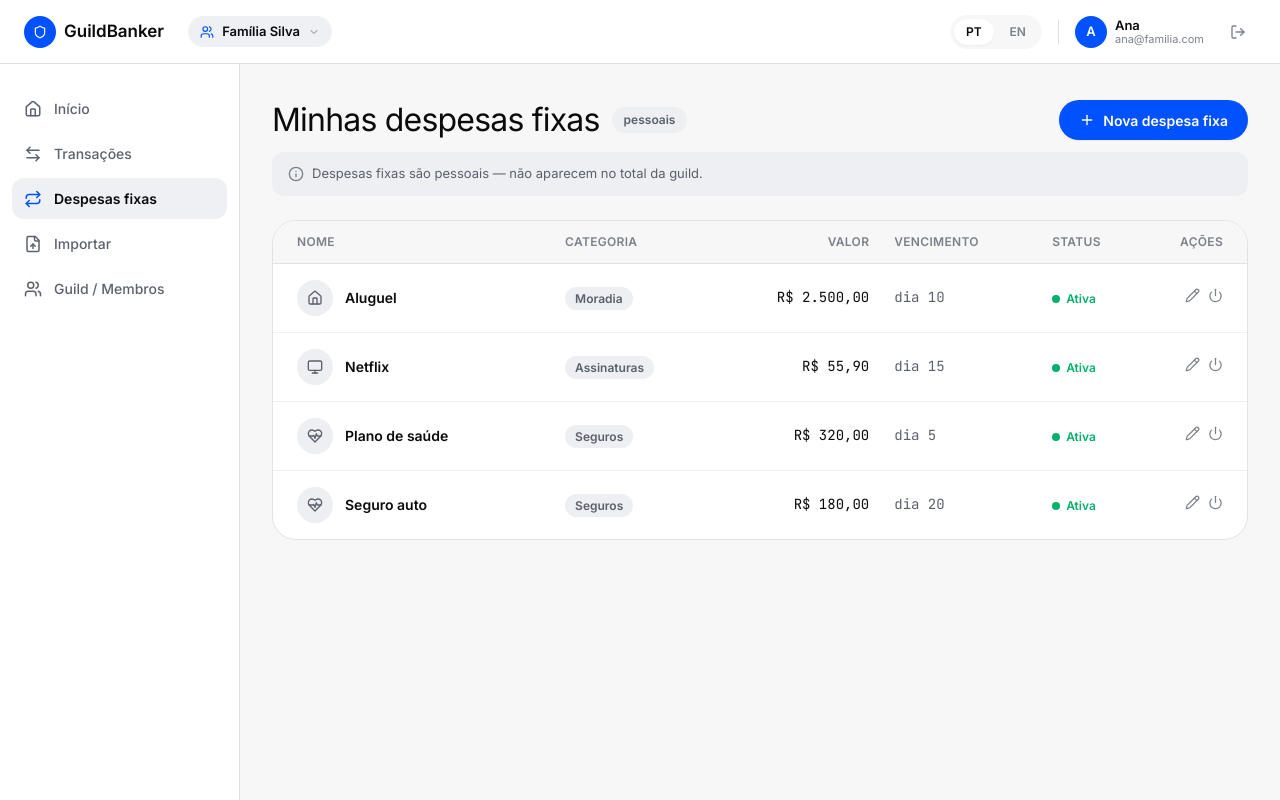
Test: reports saved changes when refetch fails and retries only GET
Expected: the row "Aluguel Moradia R$ 2.500,00 dia 10 Ativa" is shown, [273,263,1247,332]
Step 1. Click the button "Nova despesa fixa" → (1154, 120), box [1059,100,1248,140]
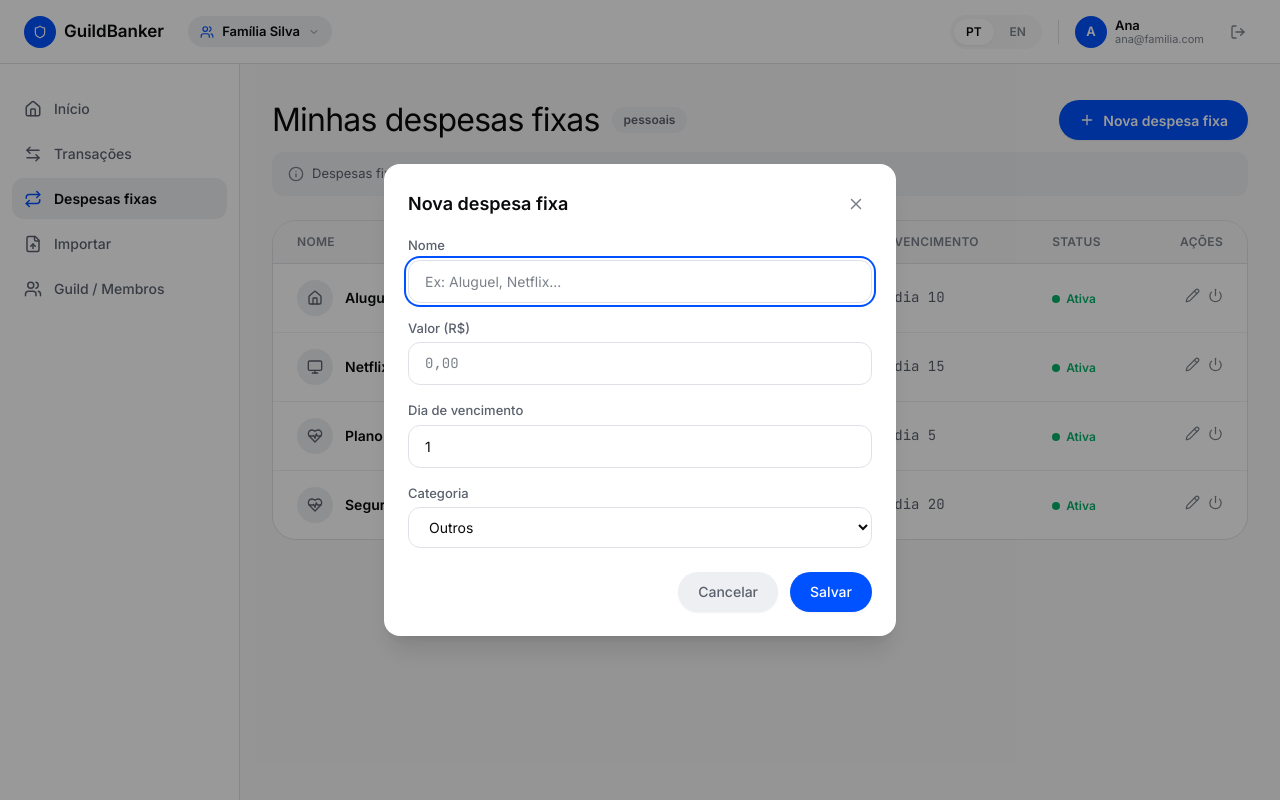
Step 2. Type "Internet" into the field labelled "Nome" → (640, 281), box [408,260,872,302]
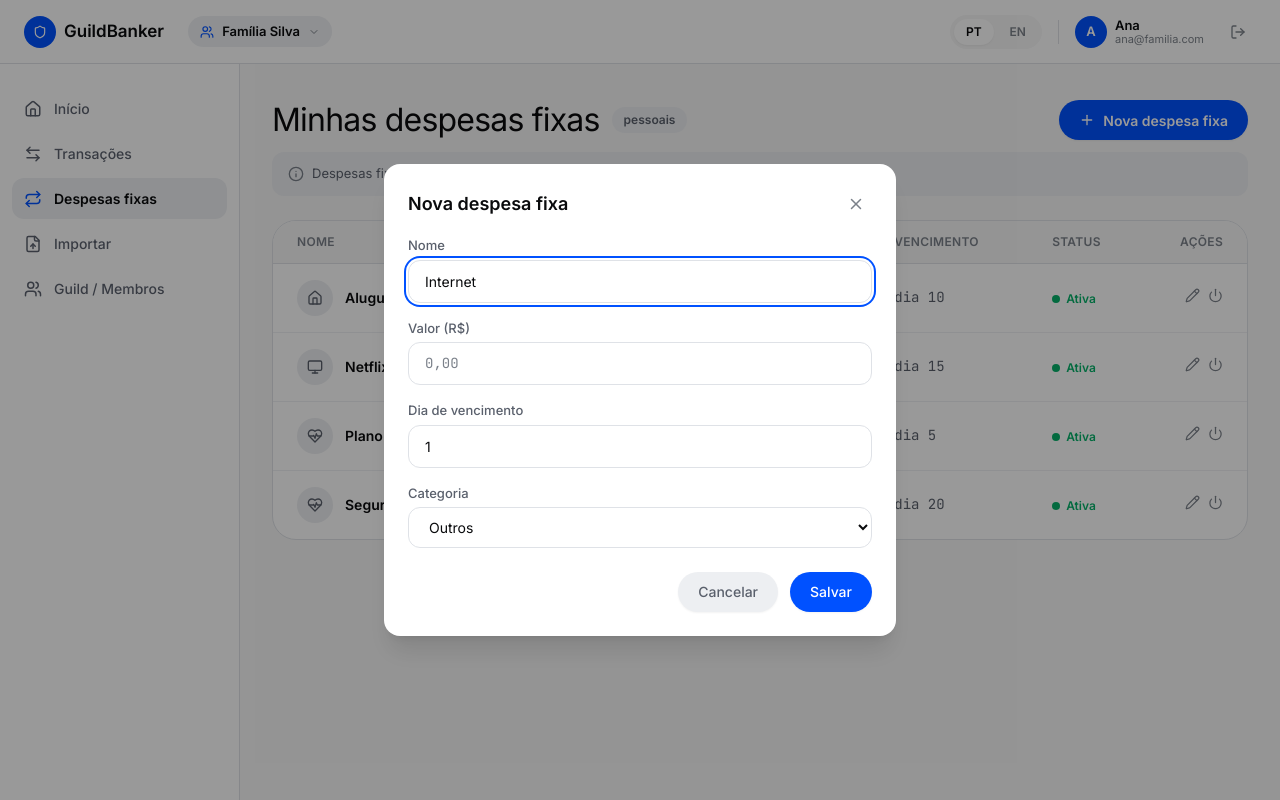
Step 3. Type "123,45" into the field labelled "Valor (R$)" → (640, 364), box [408,342,872,385]
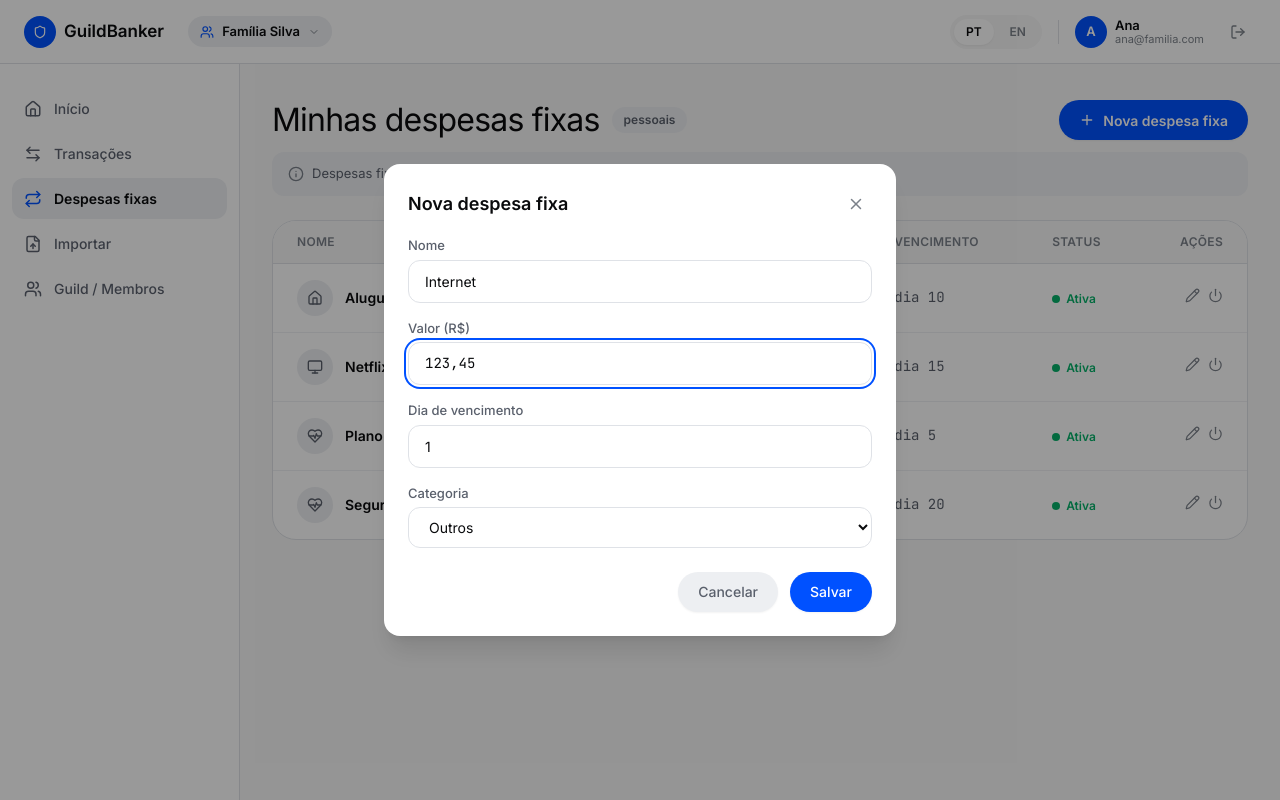
Step 4. Click the button "Salvar" → (831, 592), box [790,572,872,612]
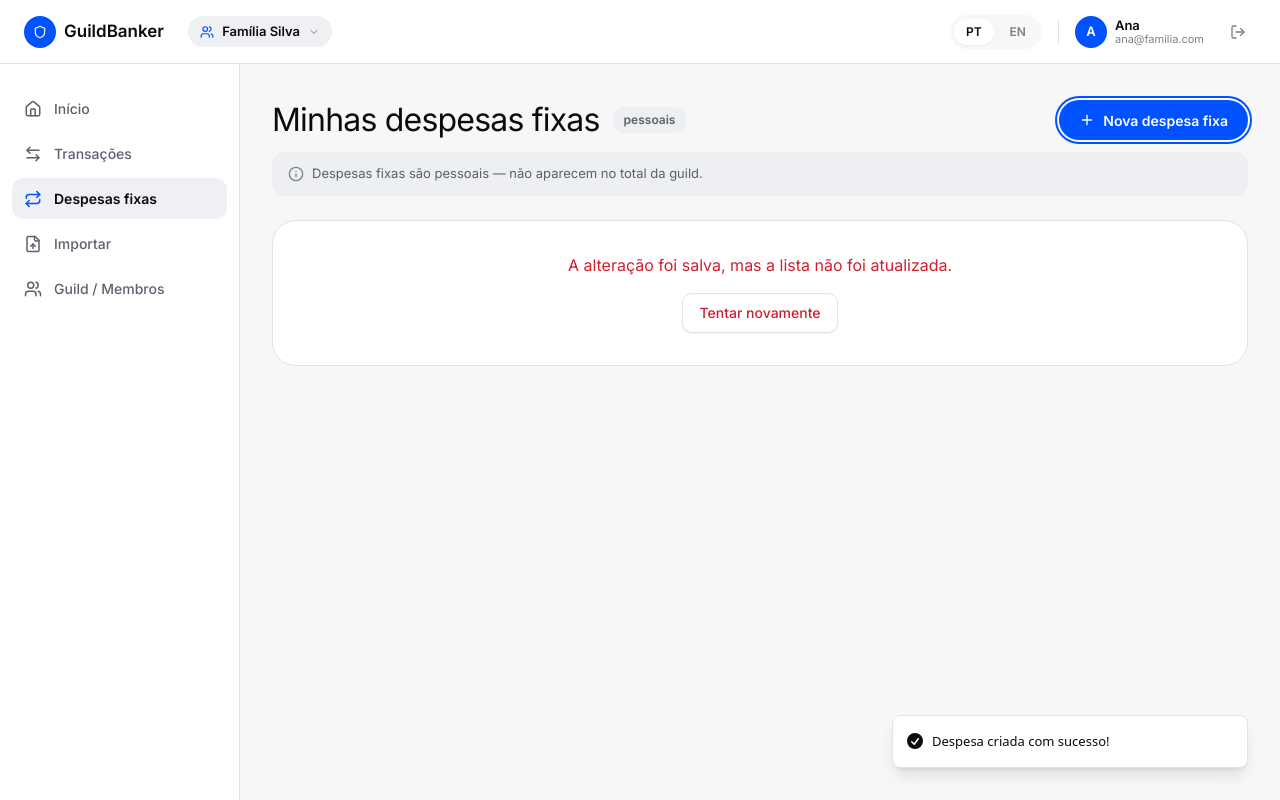
Now the message shows "A alteração foi salva, mas a lista não foi atualizada.", box [568,254,952,274]
Now the dialog is gone
Step 5. Click the button "Tentar novamente" → (760, 312), box [682,292,838,332]
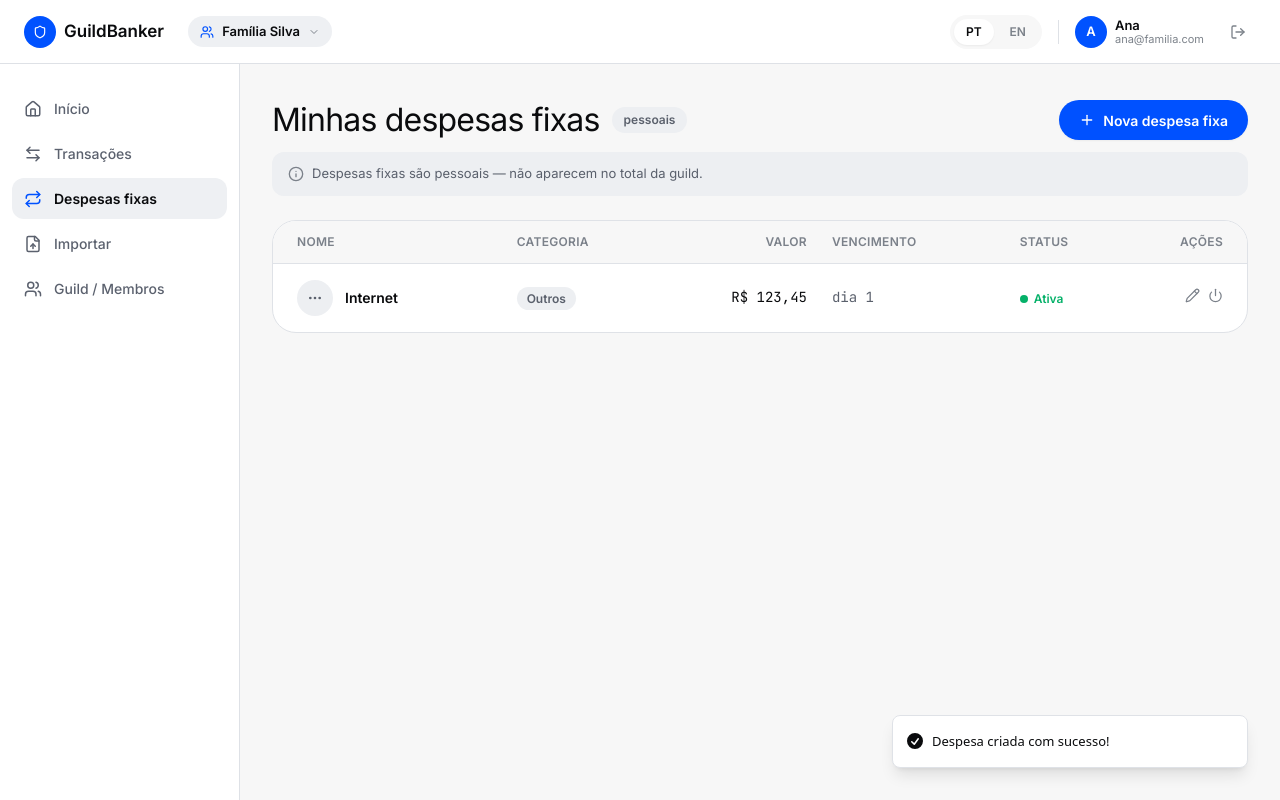
Now the row "Internet Outros R$ 123,45 dia 1 Ativa" is shown, box [273,263,1247,332]
